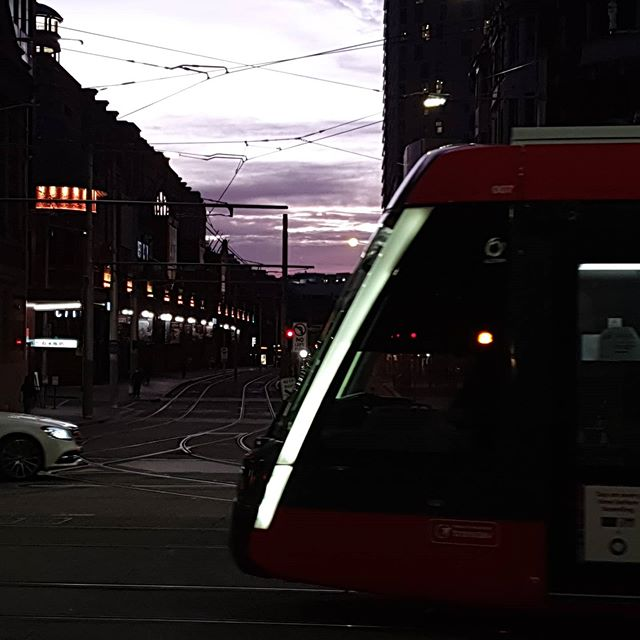building: (1, 76, 216, 371), (204, 261, 279, 368)
sky: (94, 1, 375, 259)
train: (248, 117, 640, 609)
train track: (6, 369, 277, 640)
